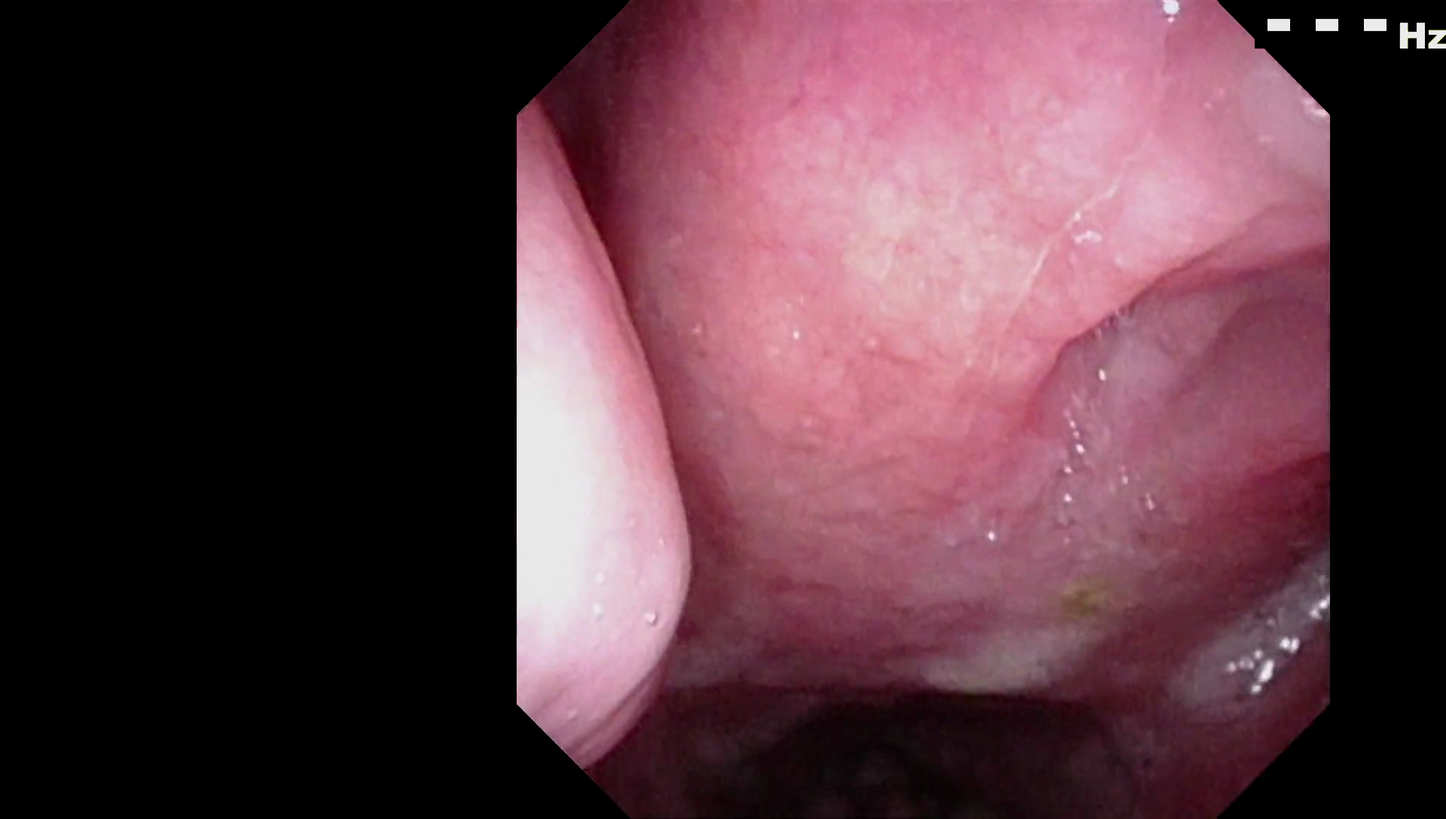close_wall: (524, 147, 785, 695), (813, 46, 1244, 372)
next: (663, 619, 1108, 819)
